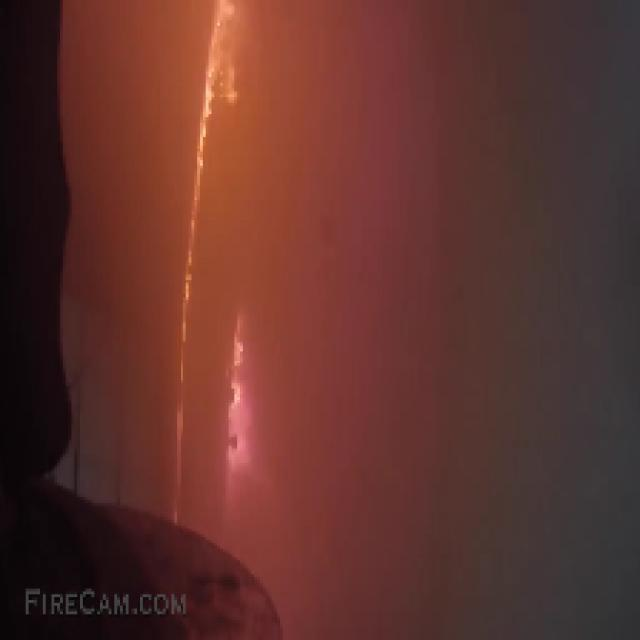Fire: (160, 3, 283, 560)
Smoke: (62, 2, 638, 638)
